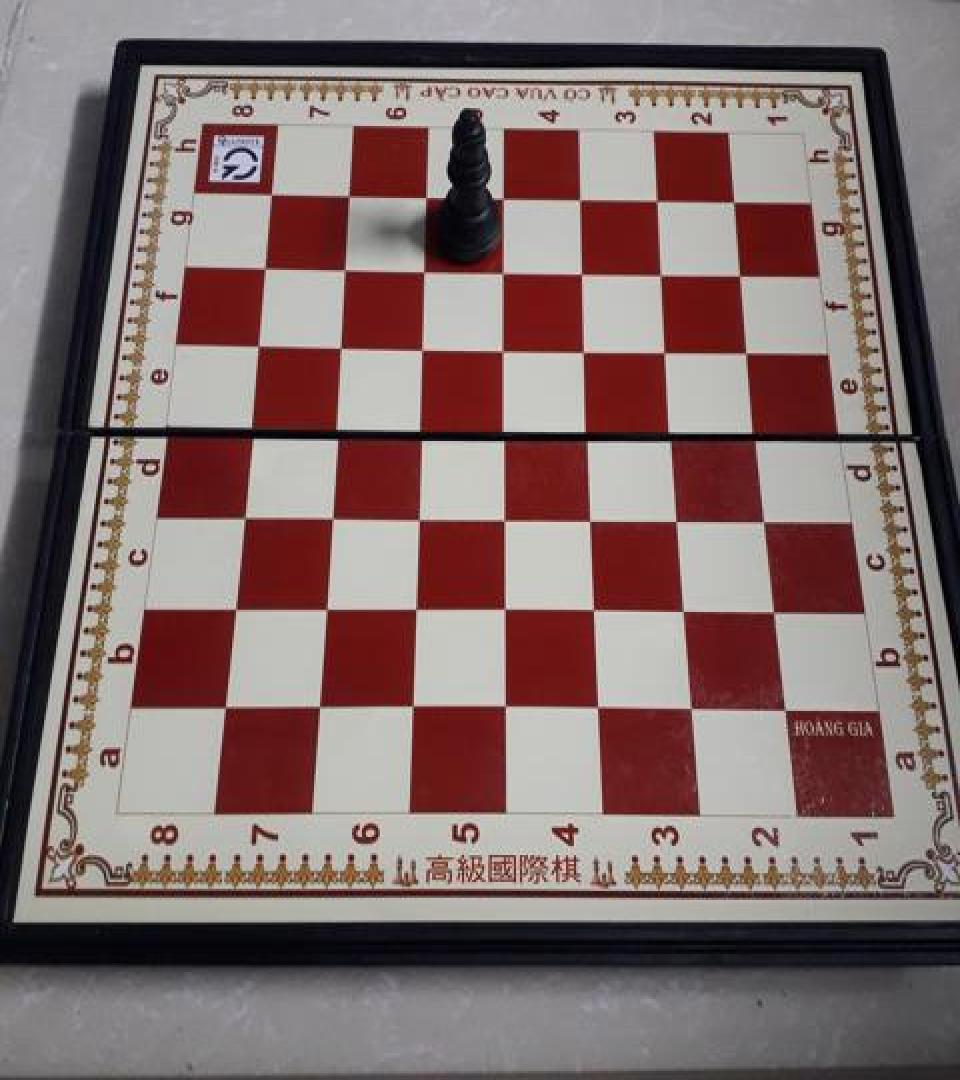xcorner: (212, 688, 244, 725), (306, 689, 338, 726), (399, 689, 431, 726), (221, 588, 253, 625), (492, 691, 524, 727), (584, 691, 616, 727), (676, 691, 708, 727), (768, 692, 800, 728), (311, 590, 343, 626), (401, 590, 433, 626), (491, 590, 523, 626), (580, 590, 612, 626), (669, 592, 701, 628), (758, 592, 790, 628), (230, 495, 262, 531), (317, 496, 349, 532), (404, 497, 436, 533), (490, 497, 522, 533), (577, 498, 609, 534), (663, 498, 695, 534), (749, 500, 781, 536), (237, 408, 269, 444), (322, 408, 354, 444), (406, 410, 438, 446), (490, 410, 522, 446), (573, 410, 605, 446), (657, 412, 689, 448), (740, 413, 772, 449), (245, 326, 277, 362), (326, 326, 358, 362), (408, 328, 440, 364), (570, 330, 602, 366), (651, 330, 683, 366), (732, 331, 764, 367), (251, 248, 283, 284), (331, 250, 363, 286), (410, 251, 442, 287), (489, 252, 521, 288), (567, 252, 599, 288), (646, 253, 678, 289), (724, 254, 756, 290), (258, 176, 290, 212), (335, 176, 367, 212), (412, 178, 444, 214), (488, 179, 520, 215), (564, 180, 596, 216), (641, 181, 673, 217), (717, 182, 749, 218), (489, 329, 521, 364)
